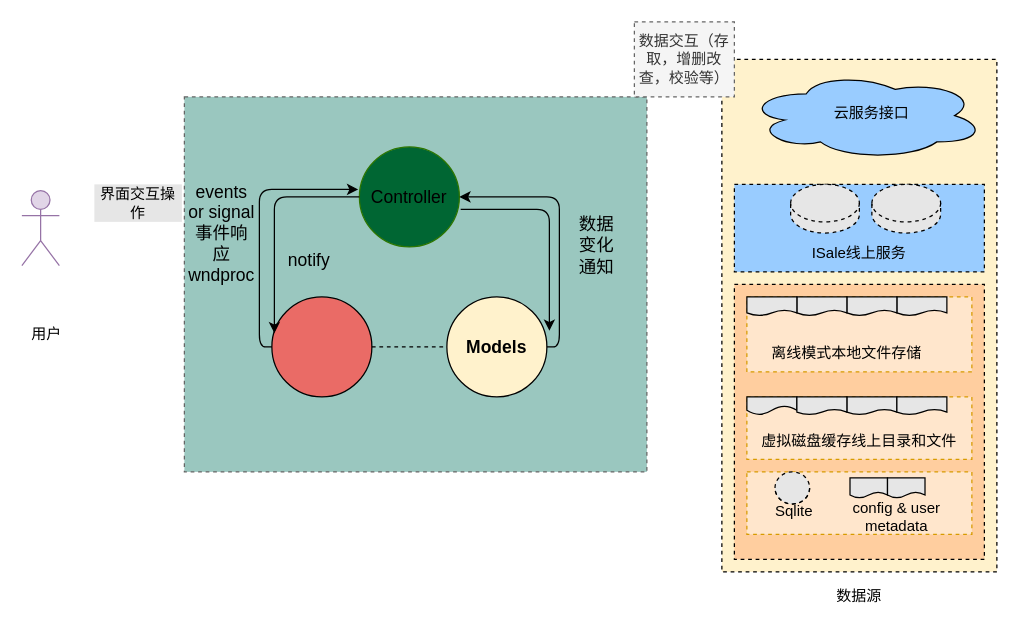
Image size: 1019x631. Some labels were removed from this diagram. The centre of each missing label's shape, as x and y in pixels:
"Actor" belongs at [40,227].
"Views" belongs at [321,346].
